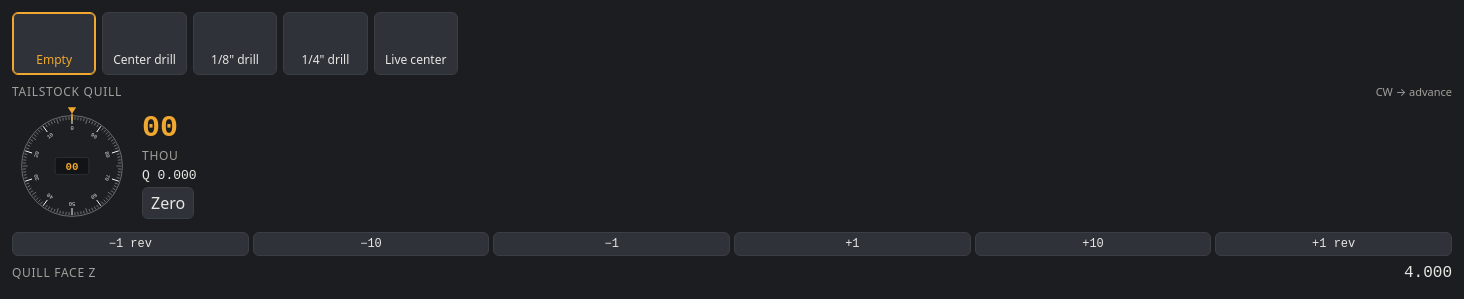
Test: TailstockPanel › selects tailstock tools, turns the quill and shows the tip Z
Expected: the text with test id "tailstock-tipz" reads "4.000", [1404,264,1452,282]
Click the button with test id "tstool-center-drill" at point(145, 44), box [102,12,187,75]
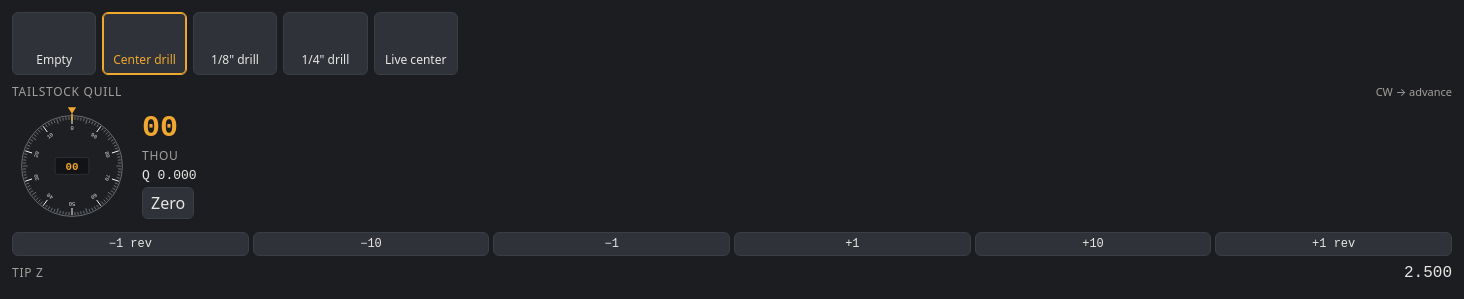
Now the text with test id "tailstock-tipz" reads "2.500", box [1404,264,1452,282]
Click the button with test id "hw-quill-plusrev" at point(1334, 244), box [1215,232,1452,256]
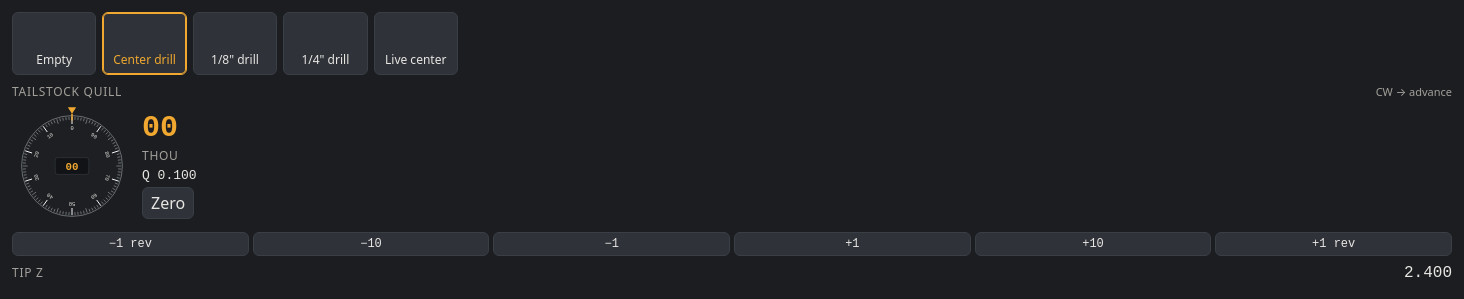
Now the text with test id "tailstock-tipz" reads "2.400", box [1404,264,1452,282]
Click the button with test id "hw-quill-plus10" at point(1093, 244), box [975,232,1211,256]
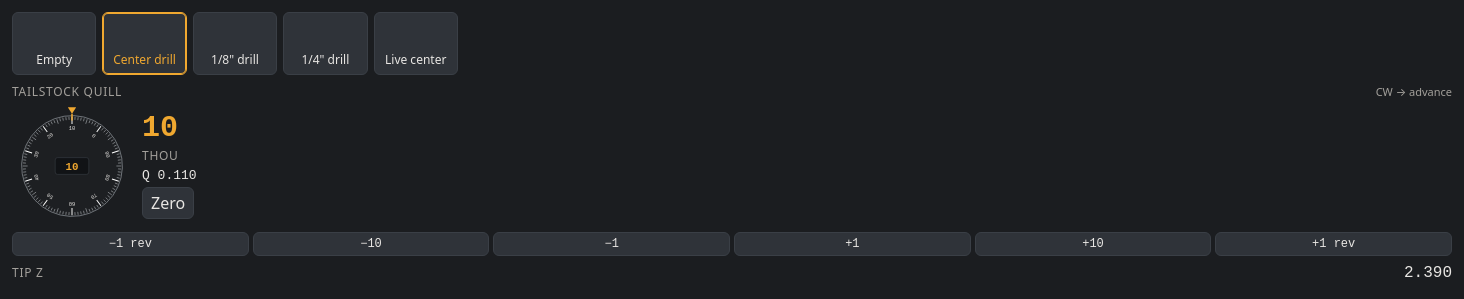
Now the text with test id "hw-quill-reading" reads "10", box [142,111,178,145]
Click the button with test id "hw-quill-zero" at point(168, 203), box [142,187,194,219]
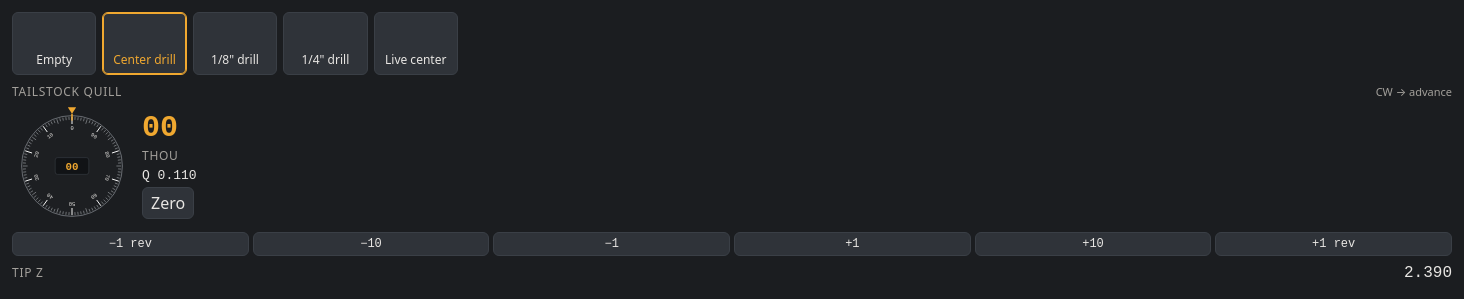
Now the text with test id "hw-quill-reading" reads "00", box [142,111,178,145]
